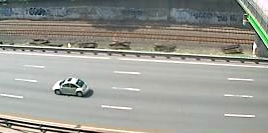car: (50, 75, 93, 98)
